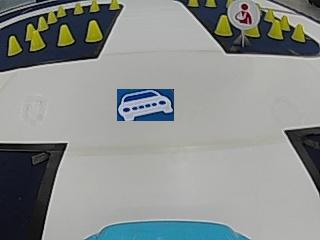cone: (57, 24, 75, 46), (214, 14, 232, 36), (85, 20, 102, 42), (30, 30, 45, 50), (292, 23, 306, 42), (269, 20, 283, 39), (8, 35, 21, 55), (37, 16, 48, 29), (73, 2, 84, 14), (89, 0, 100, 12), (108, 0, 120, 10), (47, 11, 57, 23), (56, 5, 66, 16), (205, 0, 217, 8), (187, 0, 199, 7)
patient: (230, 0, 258, 27)
